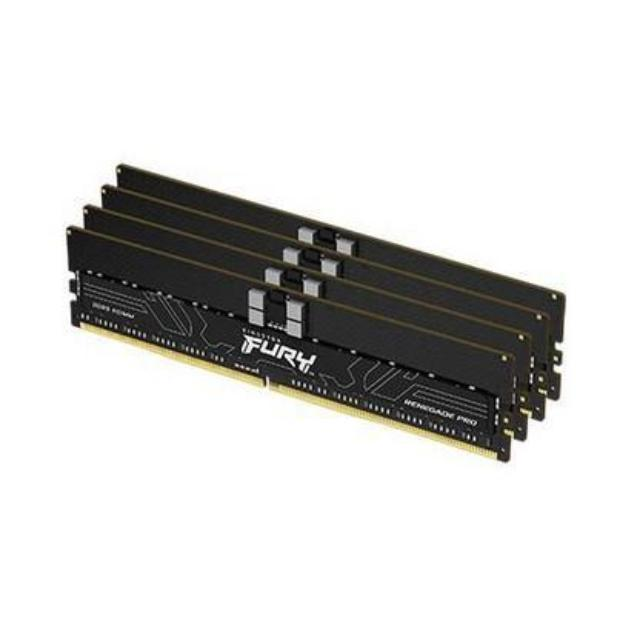RAM: (62, 153, 568, 462)
